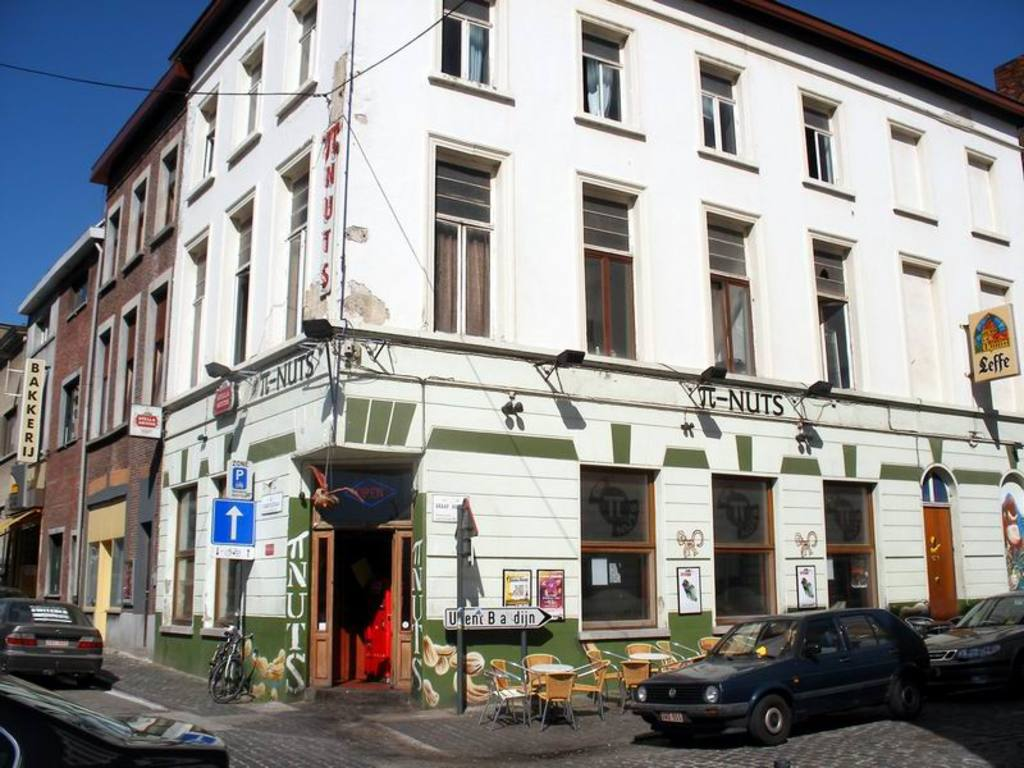Car: (625, 608, 936, 738), (0, 675, 238, 766), (924, 591, 1022, 697), (0, 602, 106, 677)
